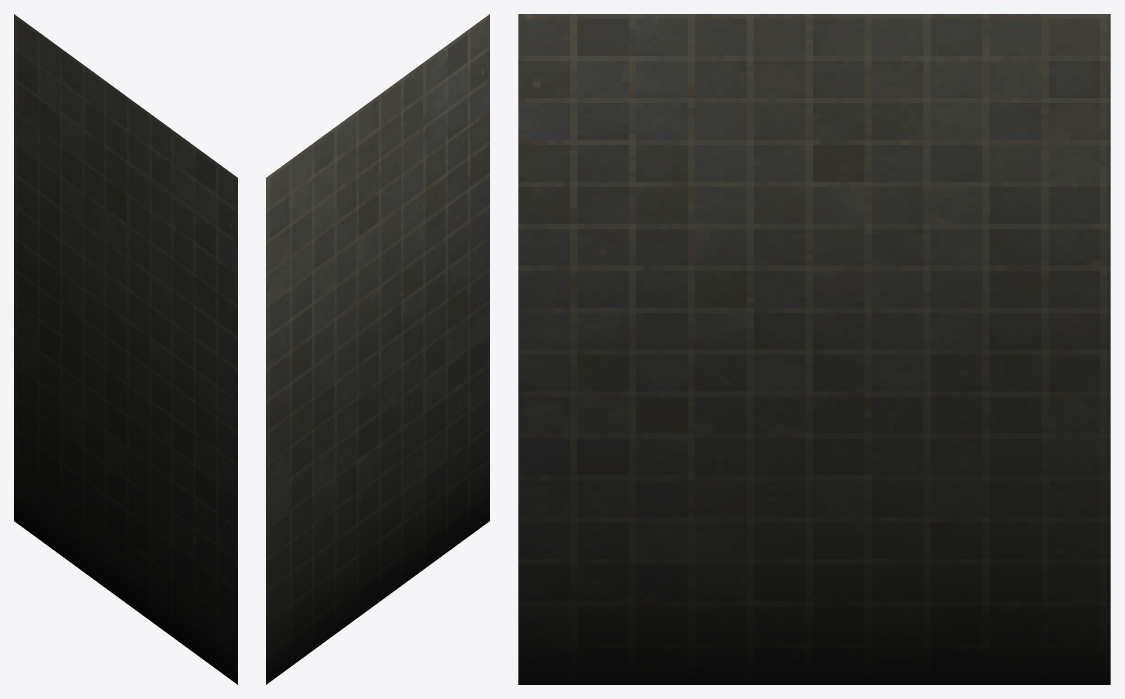
The model's file is wall.fbx.
3 renders of one model, left to right at view 1: azimuth 30°, elevation 25°; view 2: azimuth 150°, elevation 25°; view 3: azimuth 270°, elevation 25°, orthographic. The views are drawn at different scales.
Parts seen in each view (by area): view 1: wall; view 2: wall; view 3: wall.
Part boxes in pixels (x1,y1,x2,y2): wall: (14,14,237,684); wall: (266,14,489,684); wall: (518,14,1110,684).
Size of the model in its own units: 0 by 2.5 by 2.
Materials: 1 (1 with a texture image).
